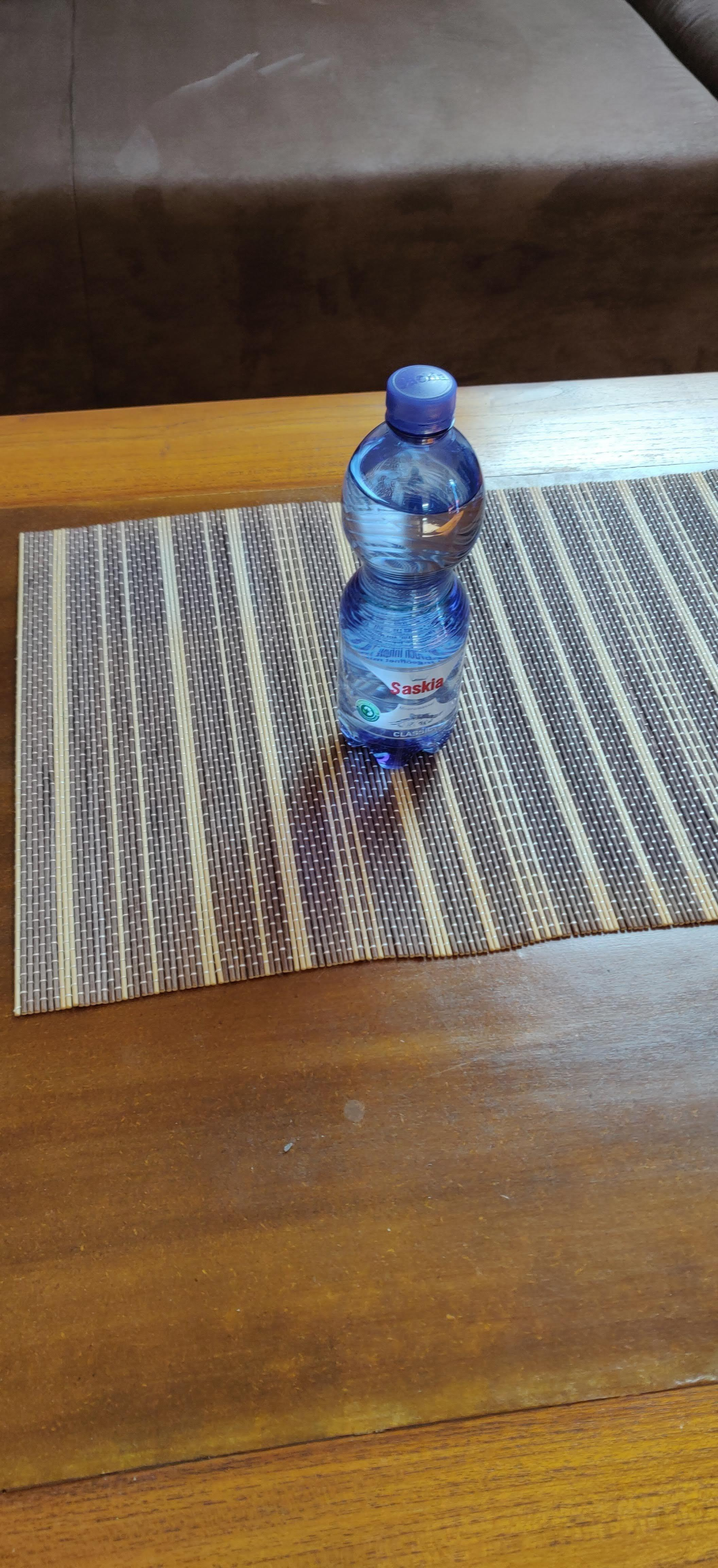bottle-plastic: (322, 361, 488, 765)
